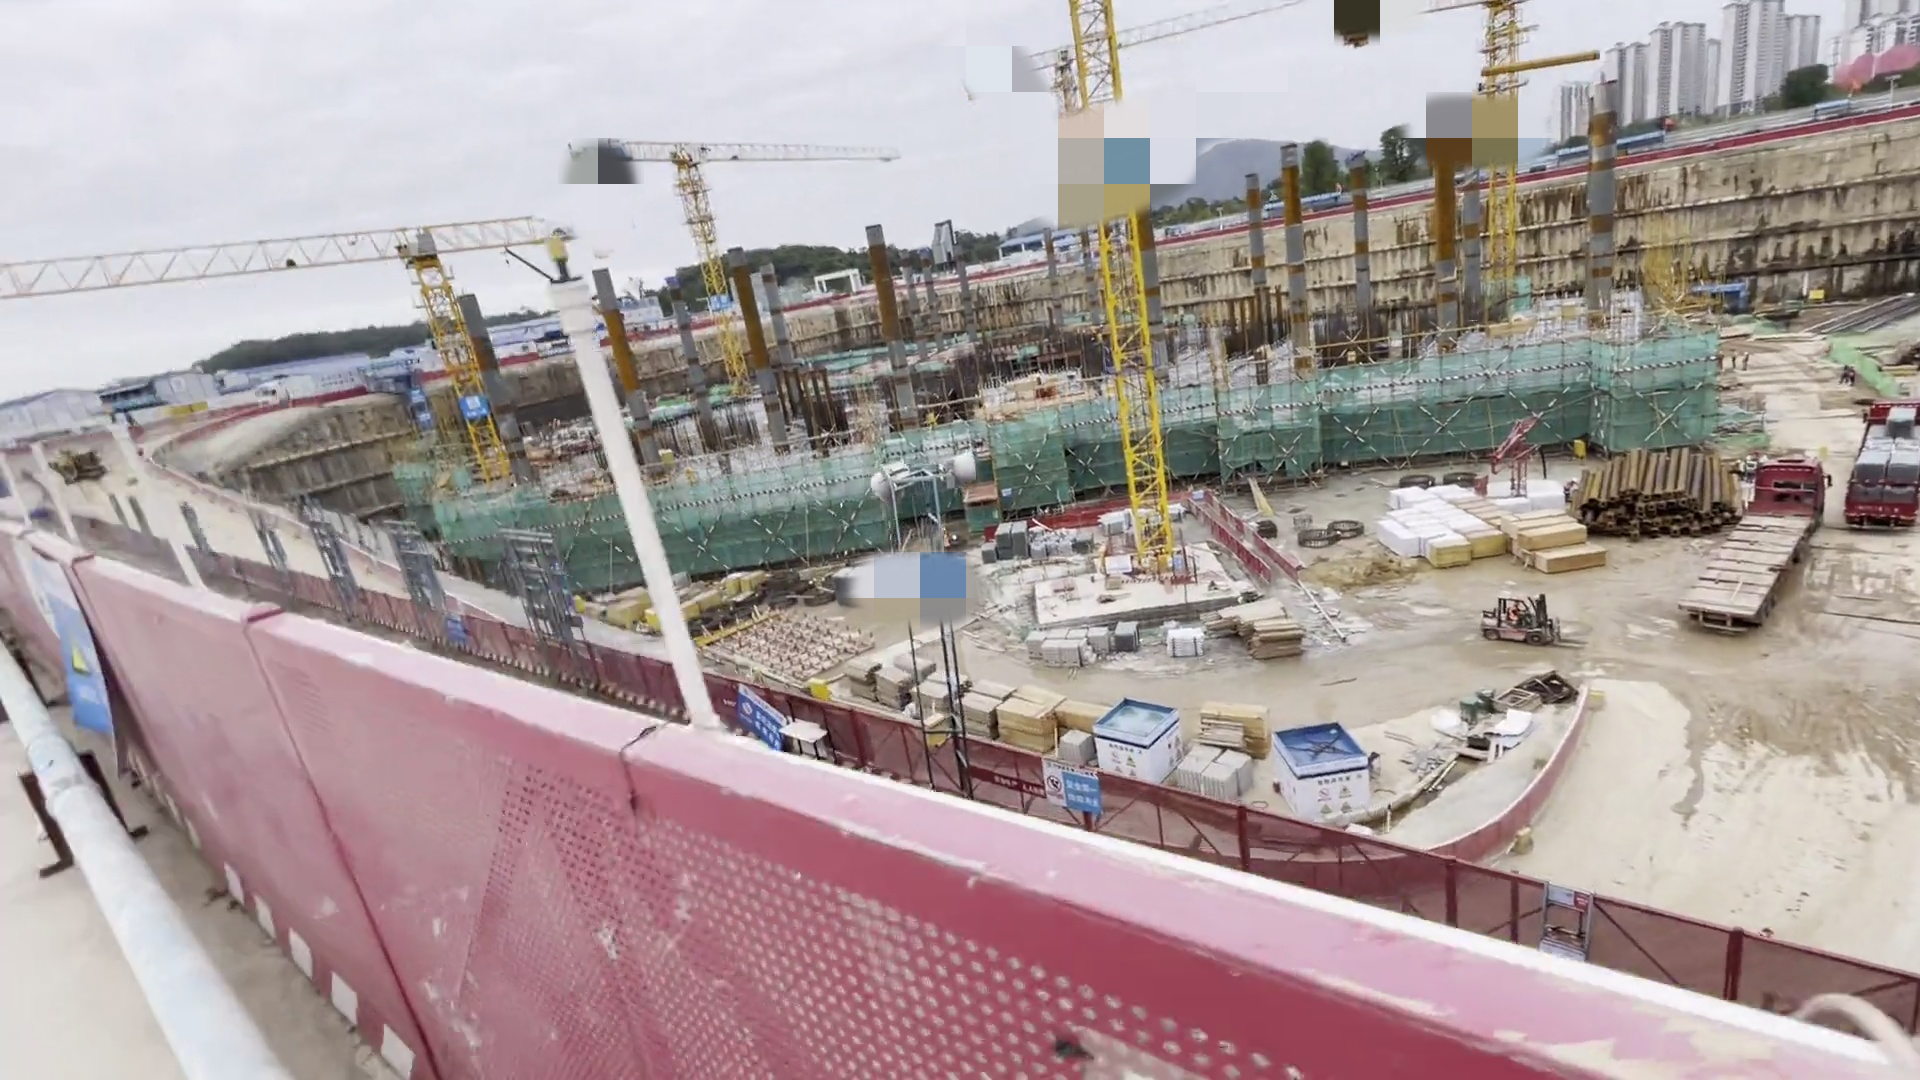board: (1382, 477, 1607, 580)
fence: (69, 520, 1875, 1080)
slogan: (17, 549, 111, 760), (1036, 753, 1112, 818), (727, 682, 790, 744), (406, 377, 436, 443), (436, 608, 473, 654), (460, 393, 491, 425)
wood: (832, 638, 1113, 758), (1182, 692, 1290, 752)
